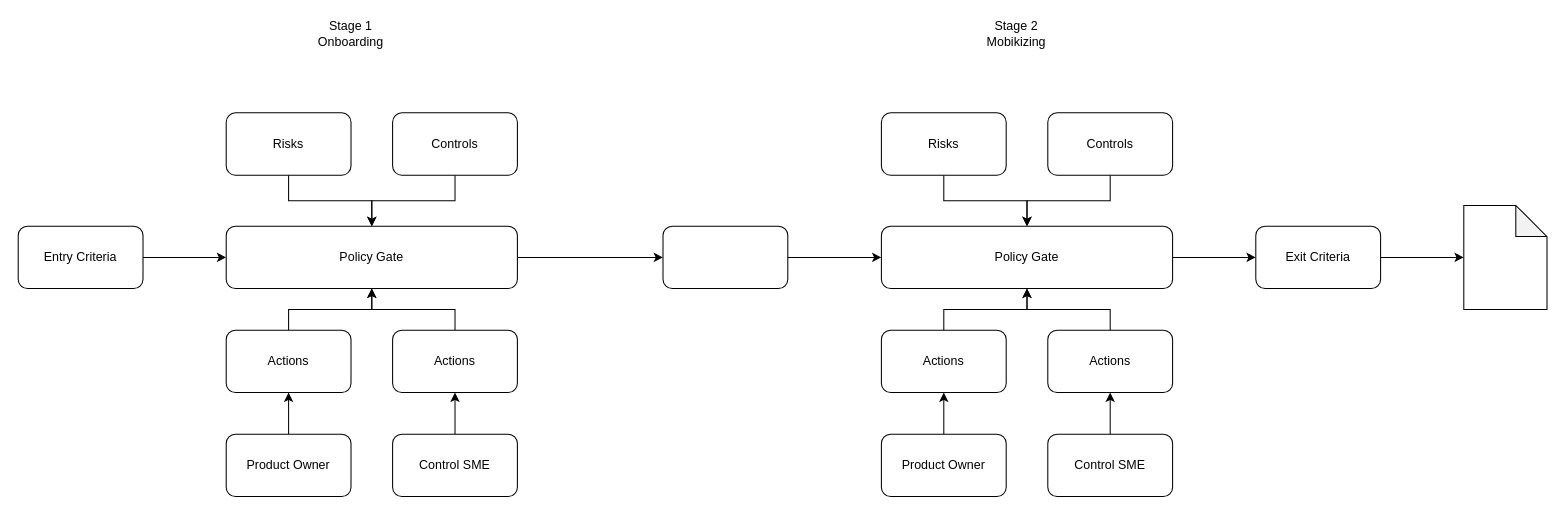
Image size: 1565x515. Some labels were removed from this diagram. The centre of each missing label's shape, as x and y in pixels:
Exit / Entry Criteria: the point at 725,257
Next Stage: the point at 1505,256
